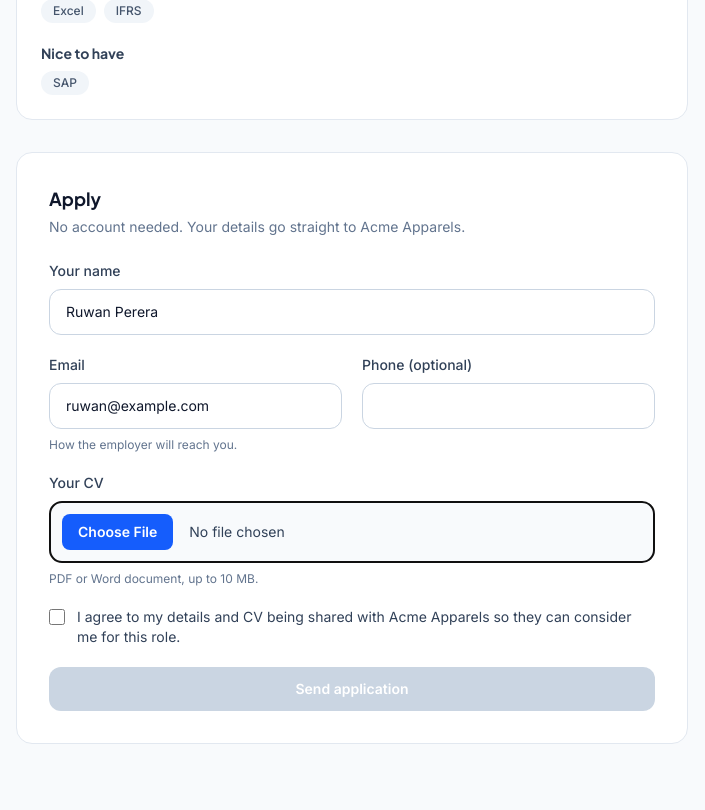
Test: ApplyContent › the form › reports a role that closed while the form was open
Earlier steps of the test are not shown.
(page scrolled)
Click the checkbox: {"x": 57, "y": 617} [49, 609, 65, 625]
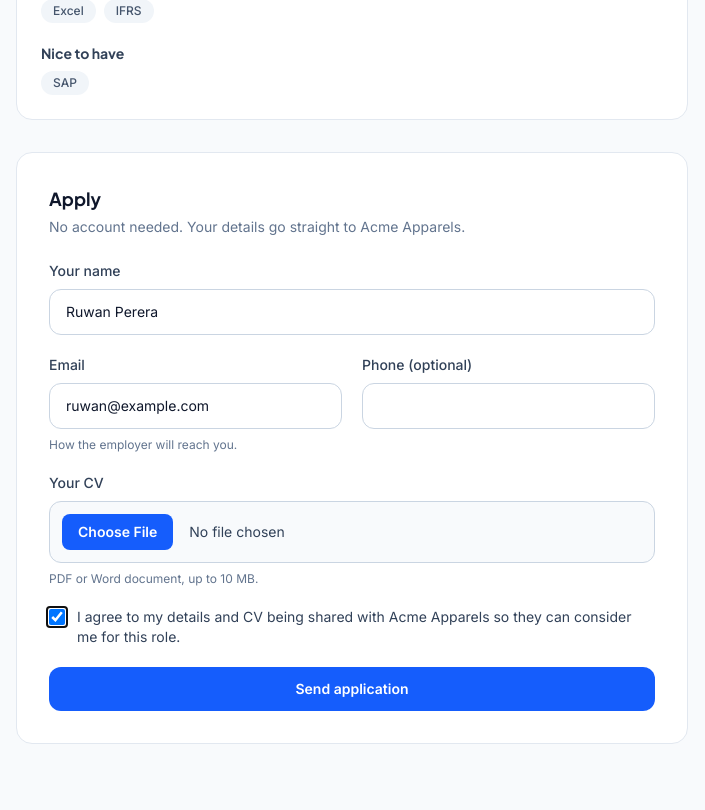
Click the button "Send application": {"x": 352, "y": 689} [49, 667, 655, 711]
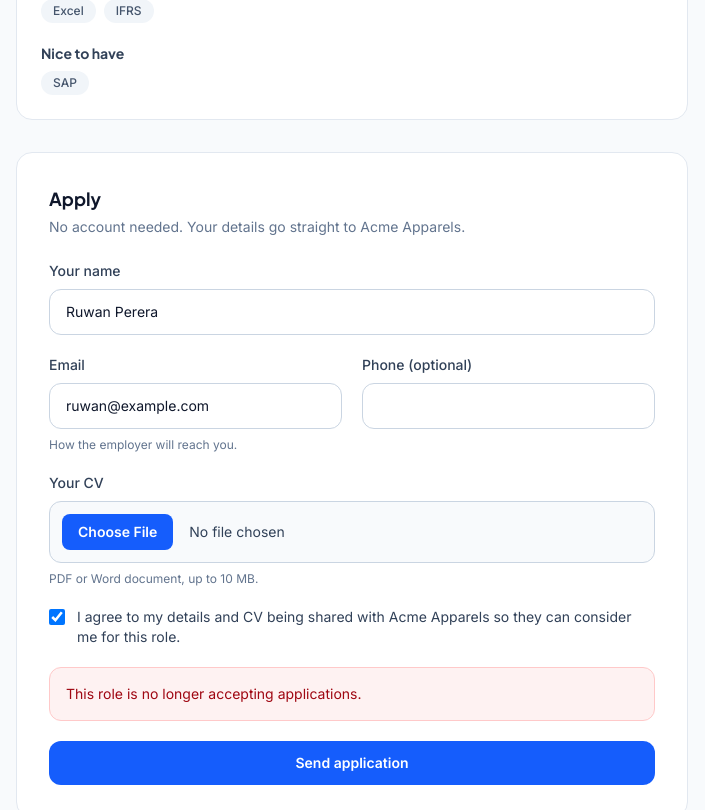
expect the text "This role is no longer accepting applications." is shown: met, box [49, 667, 655, 721]
